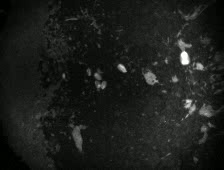corn: (178, 48, 192, 68), (114, 62, 129, 75), (84, 65, 94, 78), (92, 71, 103, 82), (91, 79, 102, 90), (99, 79, 108, 90), (60, 71, 68, 81)
